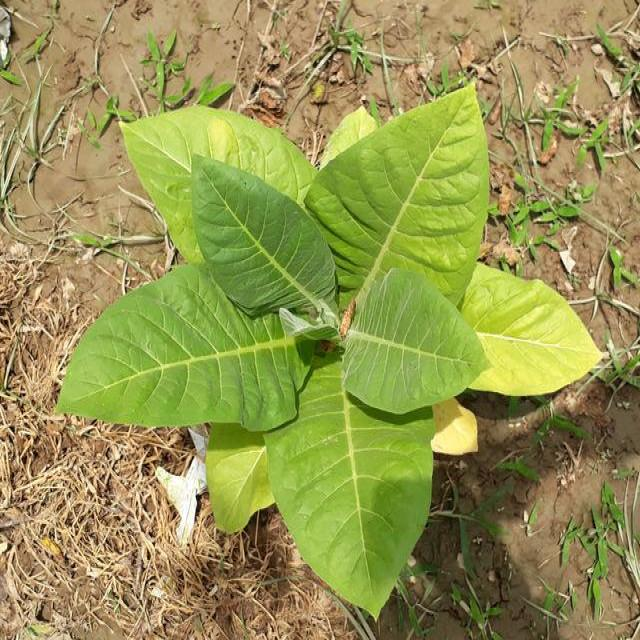crop: (52, 79, 614, 624)
